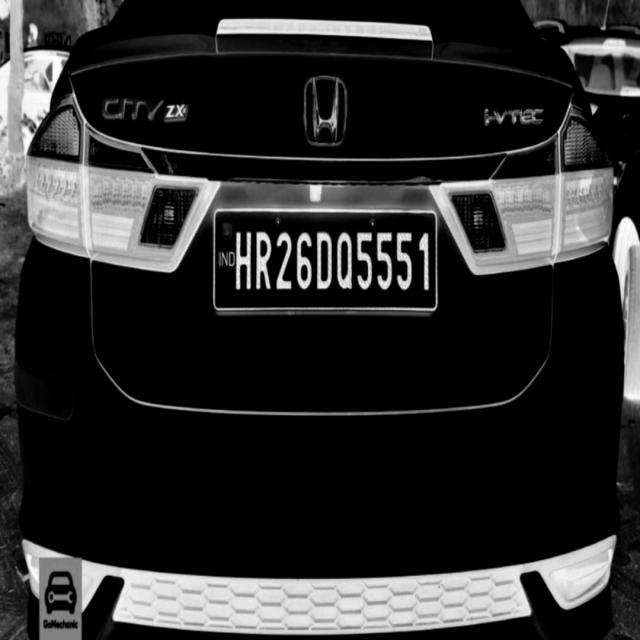1: (417, 228, 432, 296)
2: (274, 228, 292, 292)
5: (375, 228, 396, 294), (394, 229, 414, 293), (355, 228, 372, 291)
6: (295, 231, 312, 293)
D: (314, 229, 336, 295)
H: (234, 229, 253, 293)
IND: (216, 220, 236, 274)
Indian_registered: (216, 210, 438, 308)
Q: (335, 228, 354, 293)
R: (254, 228, 273, 297)
